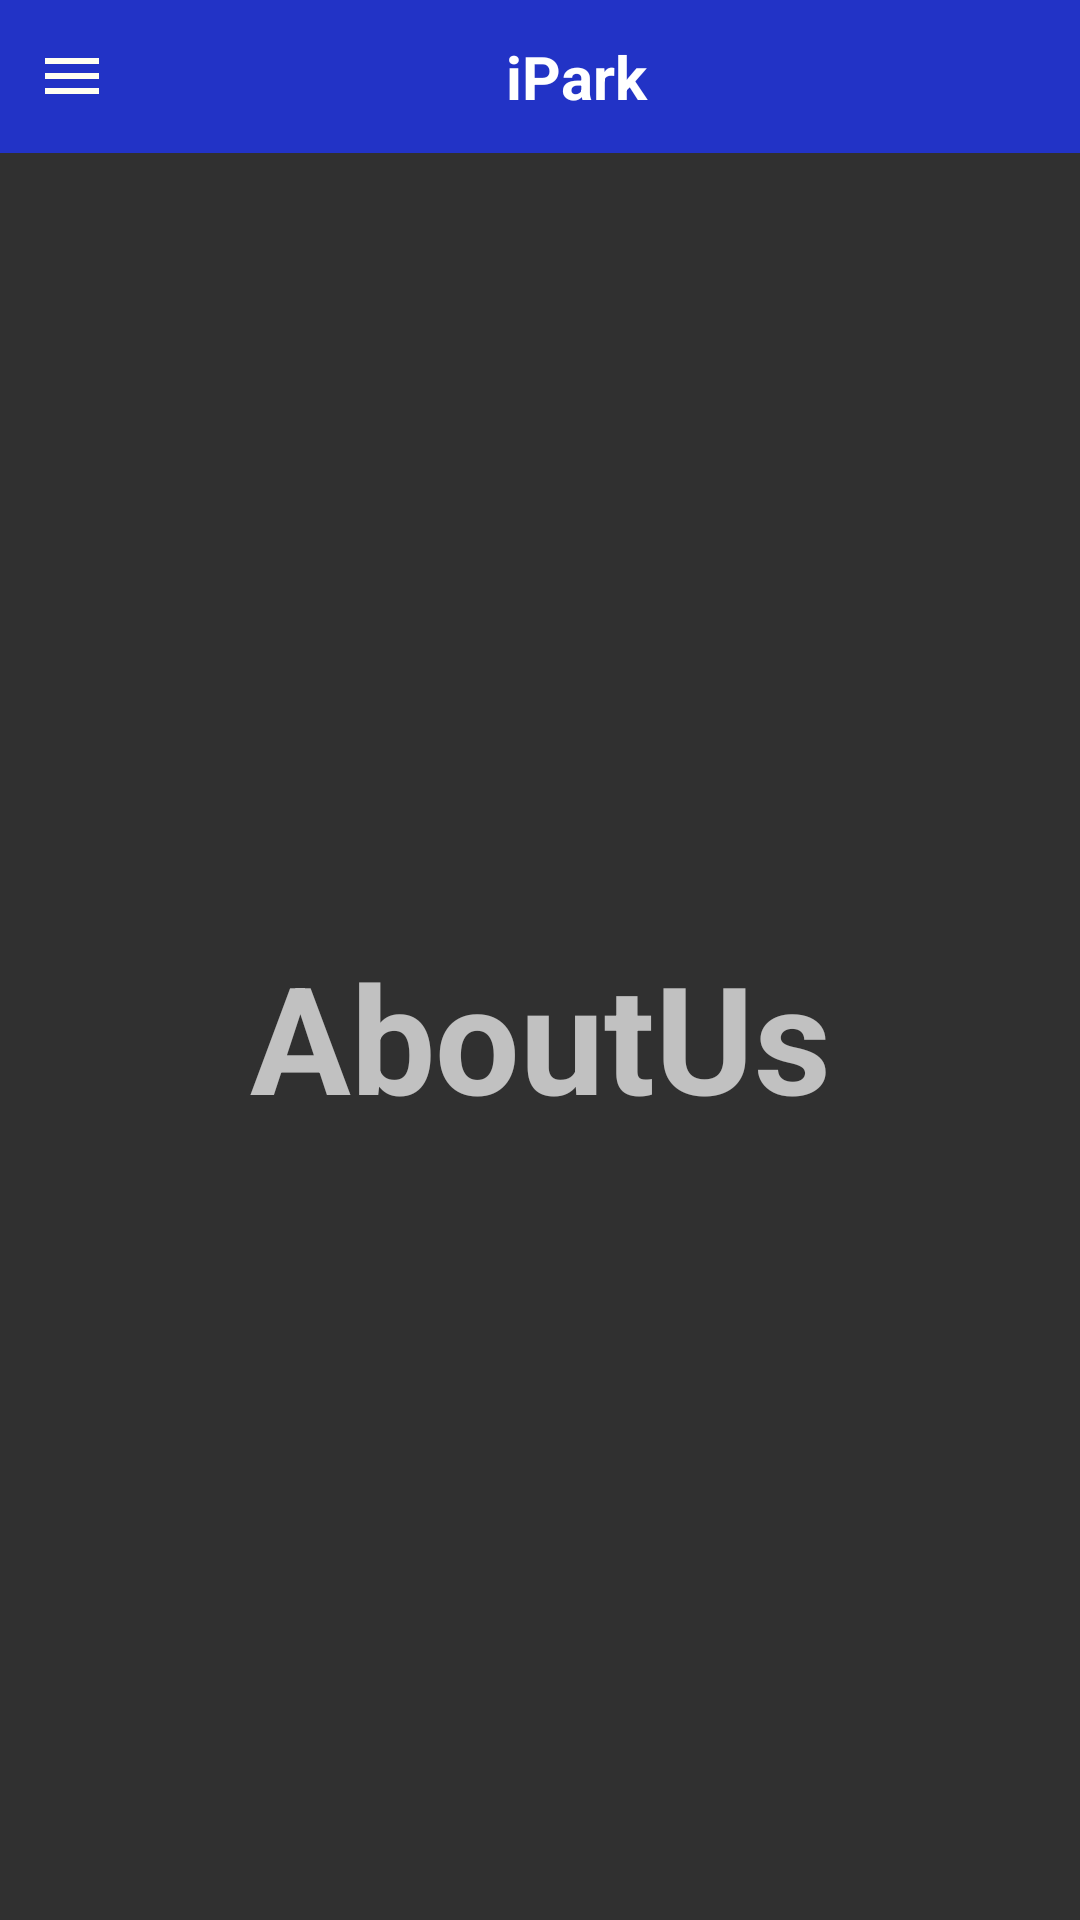

Where icons sit on this 1080px x 1920px app screen, as (x1, y1, x2, y2):
menu: (45, 58, 99, 94)
